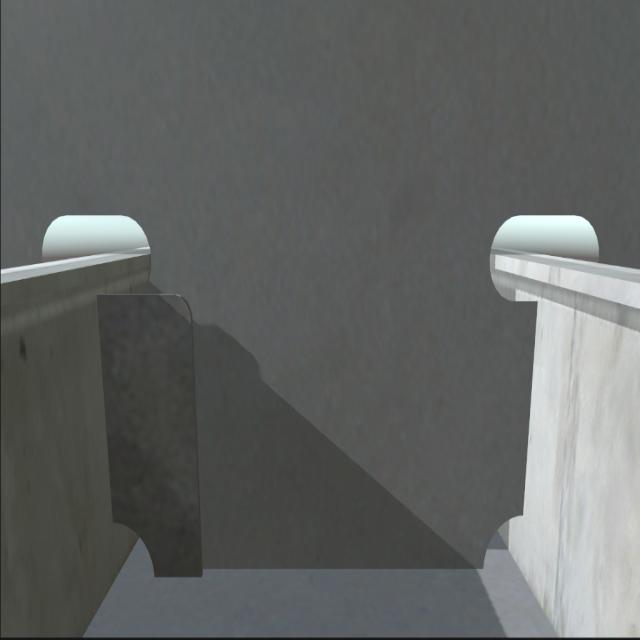fillet_hole: (478, 514, 520, 570), (112, 526, 156, 574)
fillet_yong_jeop_jang: (148, 558, 494, 580)
longi_yong_jeop_jang: (92, 287, 127, 532), (523, 290, 536, 521)
plate_CP05: (94, 292, 204, 574)
